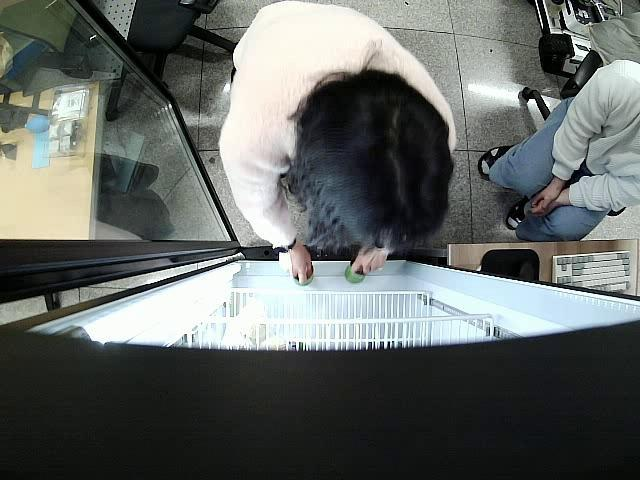19_17cha: (294, 263, 316, 290), (345, 262, 367, 287)
